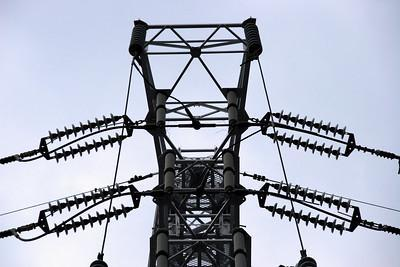power_tower: (2, 17, 380, 267)
